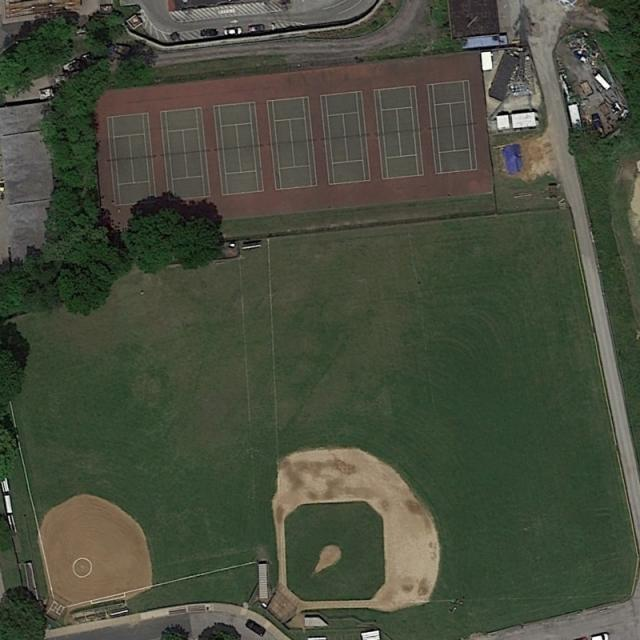vehicle: (244, 619, 266, 636), (224, 26, 242, 35), (199, 28, 219, 36), (591, 632, 609, 640), (248, 25, 264, 31)
